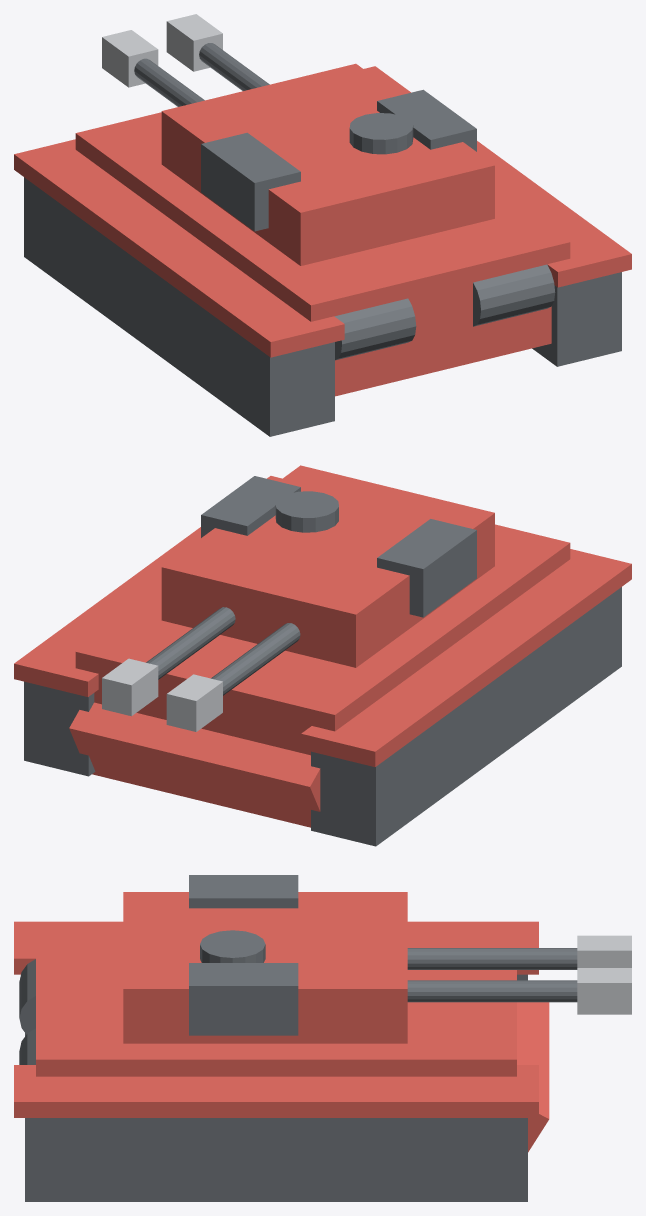
The model's file is test_tank.glb.
3 views of the same model, one above another, from view 1: azimuth 30°, elevation 25°; view 2: azimuth 150°, elevation 25°; view 3: azimuth 270°, elevation 25° (orthographic). The views are drawn at different scales.
Parts seen in each view (by area): view 1: Soviet_Tank; view 2: Soviet_Tank; view 3: Soviet_Tank.
Part boxes in pixels (bbox=[...]): Soviet_Tank: bbox=[14, 14, 631, 436]; Soviet_Tank: bbox=[14, 465, 631, 846]; Soviet_Tank: bbox=[14, 875, 631, 1201].
Bounding box in the file's own units: 3.9 × 1.95 × 5.65.
